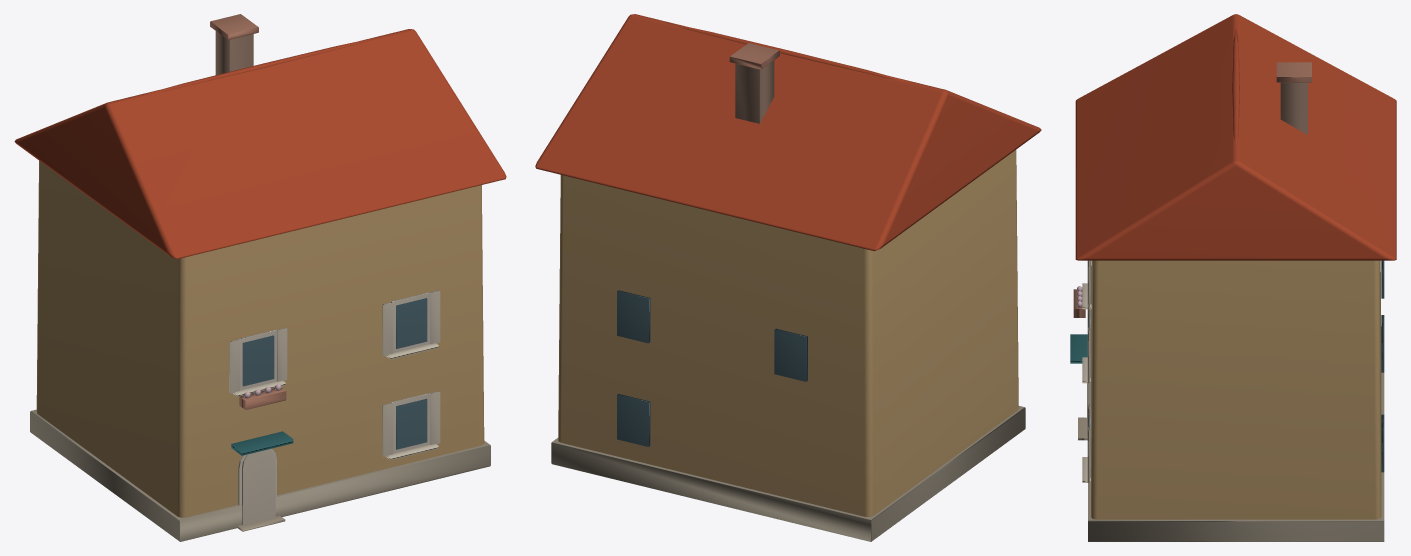
File: house_02.glb
3 views of the same model, side by side, from view 1: azimuth 30°, elevation 25°; view 2: azimuth 150°, elevation 25°; view 3: azimuth 270°, elevation 25° (orthographic). The views are drawn at different scales.
Parts seen in each view (by area): view 1: house_02; view 2: house_02; view 3: house_02.
Part boxes in pixels (x1=…): house_02: x1=14, y1=14, x2=506, y2=541; house_02: x1=535, y1=14, x2=1041, y2=541; house_02: x1=1070, y1=14, x2=1396, y2=541.
Size of the model in its own units: 9.78 by 11.26 by 8.31.
